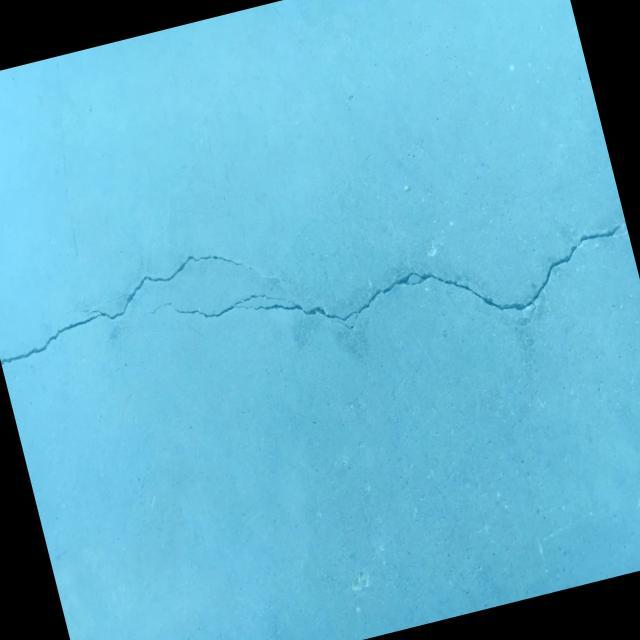crack: (148, 192, 635, 399), (0, 240, 265, 364)
